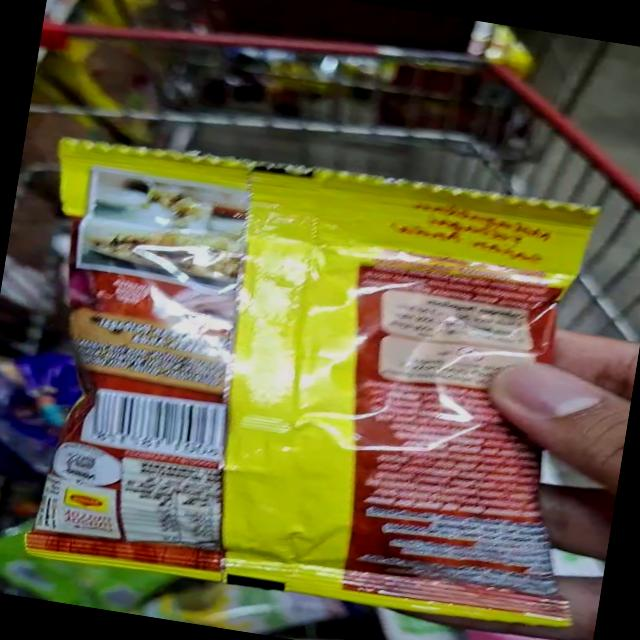Maggi Cukup Rasa: (11, 128, 593, 640)
